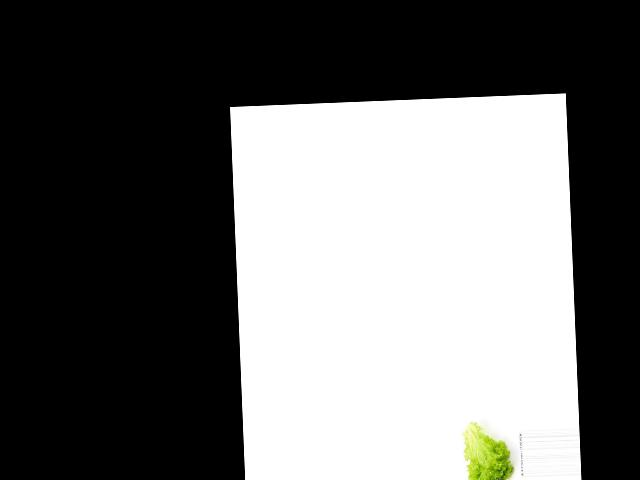lettuce: (460, 420, 514, 480)
